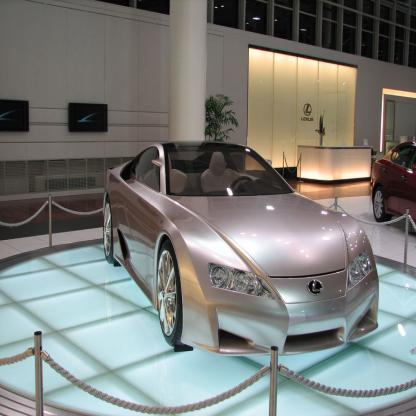Car: (103, 140, 379, 356), (370, 141, 415, 226)
